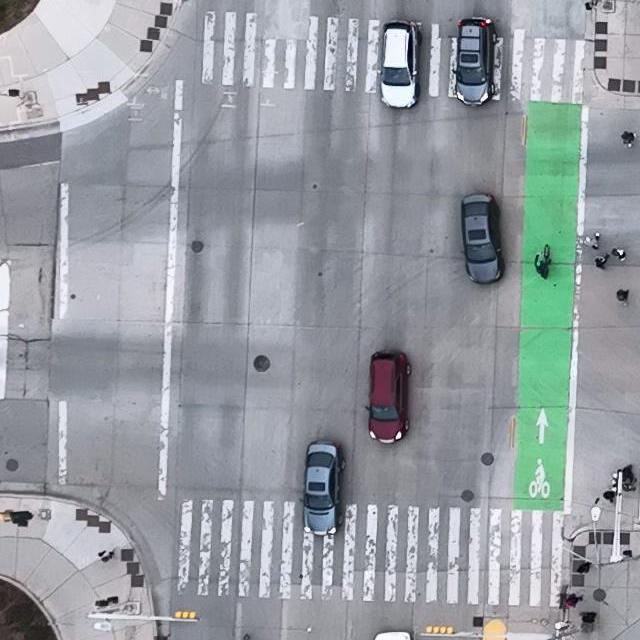car: (298, 439, 346, 537), (364, 348, 413, 443), (452, 16, 498, 106), (461, 193, 505, 286), (376, 21, 420, 109)
